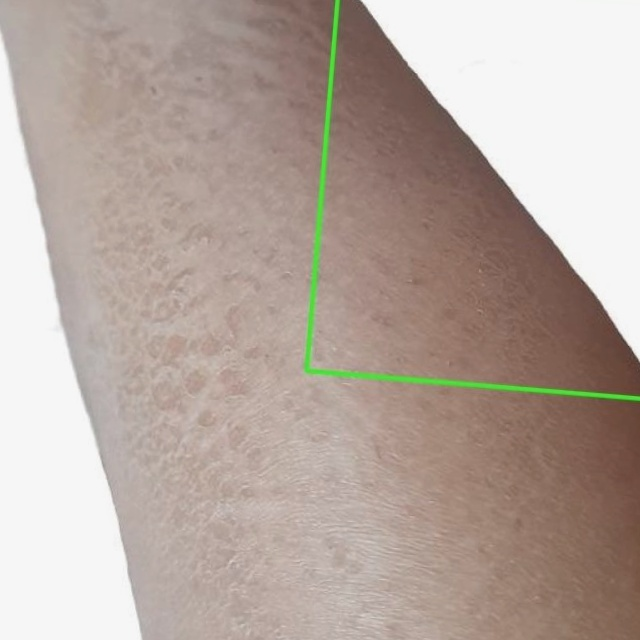Contact Dermatitis: (306, 0, 639, 398)
